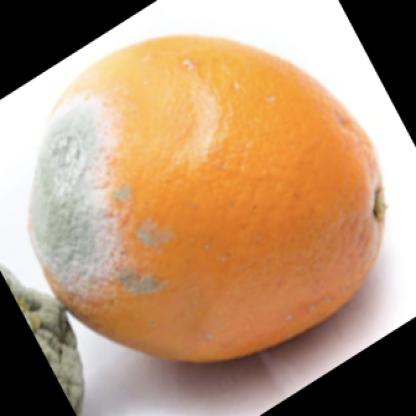rotten: (32, 35, 381, 366)
